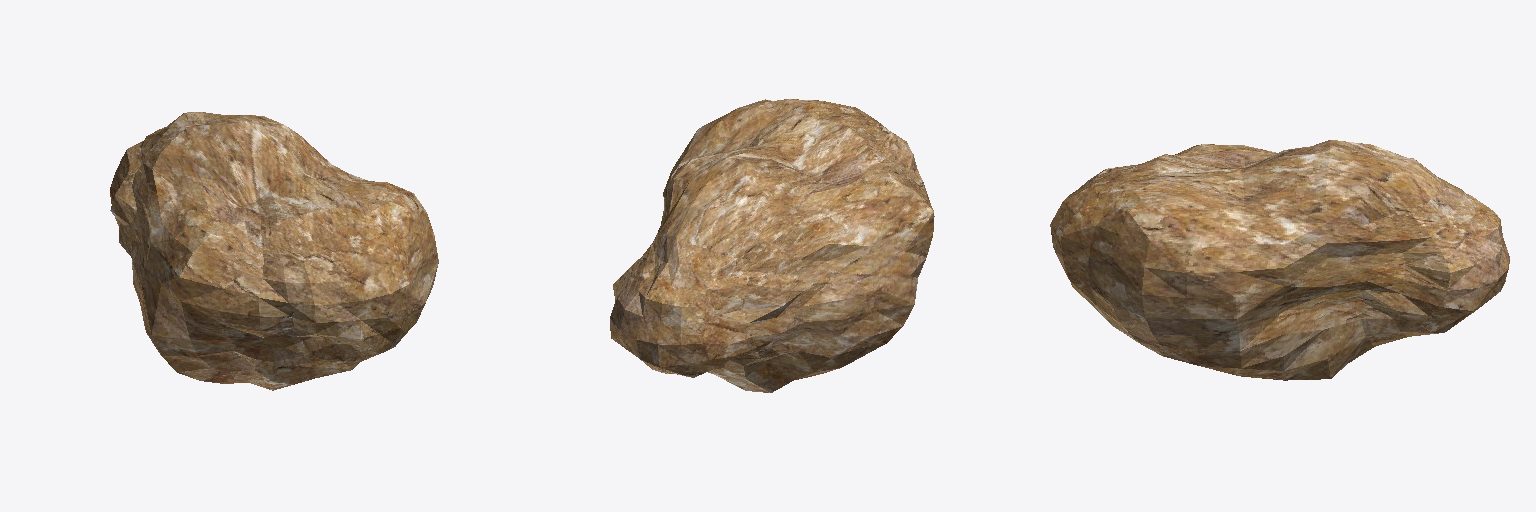
The picture shows the model from 3 angles: view 1: azimuth 30°, elevation 25°; view 2: azimuth 150°, elevation 25°; view 3: azimuth 270°, elevation 25°; orthographic projection.
Parts seen in each view (by area): view 1: Cube; view 2: Cube; view 3: Cube.
Boxes of the visible parts, x1=… form: Cube: x1=110, y1=112, x2=438, y2=390; Cube: x1=610, y1=99, x2=934, y2=392; Cube: x1=1050, y1=140, x2=1509, y2=380.
Size of the model in its own units: 1.1 by 0.9512 by 1.74.
Materials: 1 (1 with a texture image).